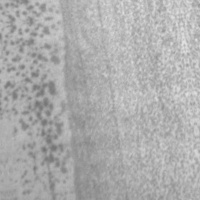pitted_surface: (59, 1, 199, 199), (0, 19, 78, 199)
